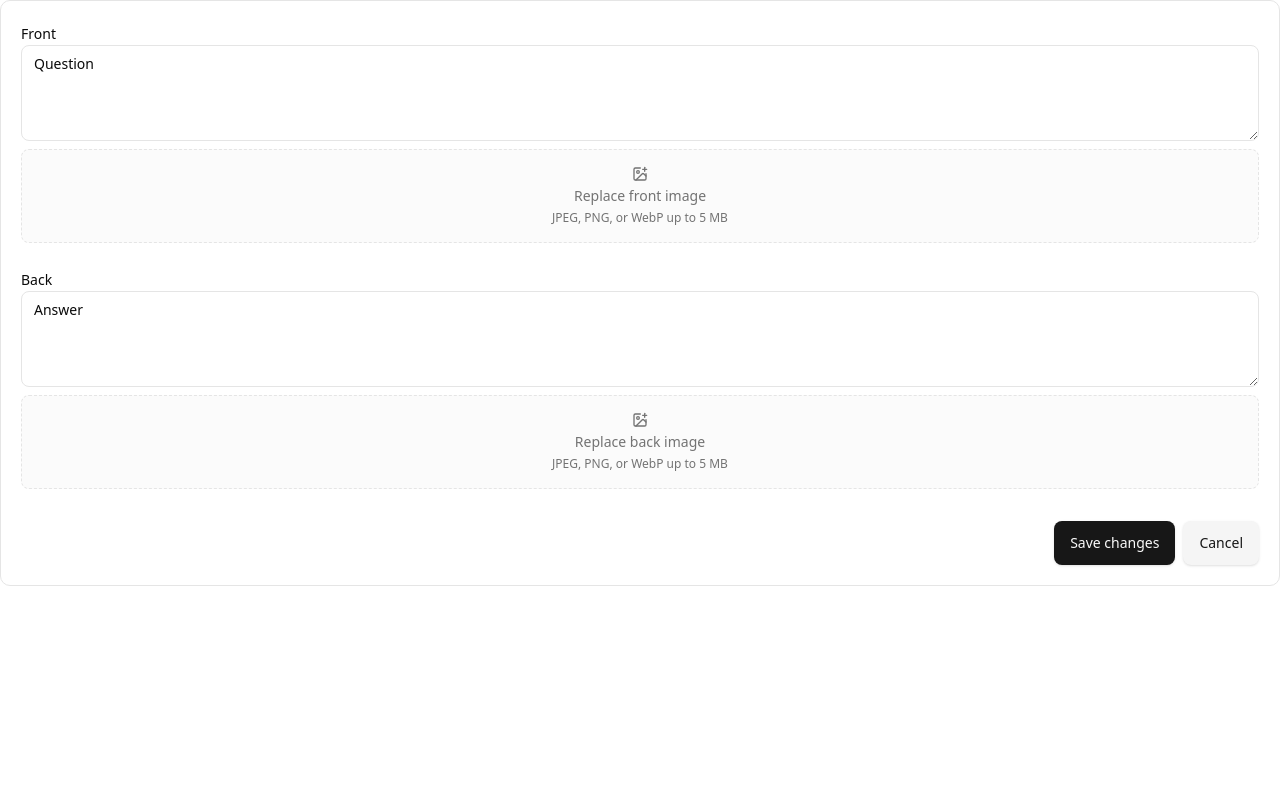
Test: CardForm › shows an inline error when an edit save fails
Click the button "Save changes". click: (1115, 543)
box: [1054, 521, 1175, 565]
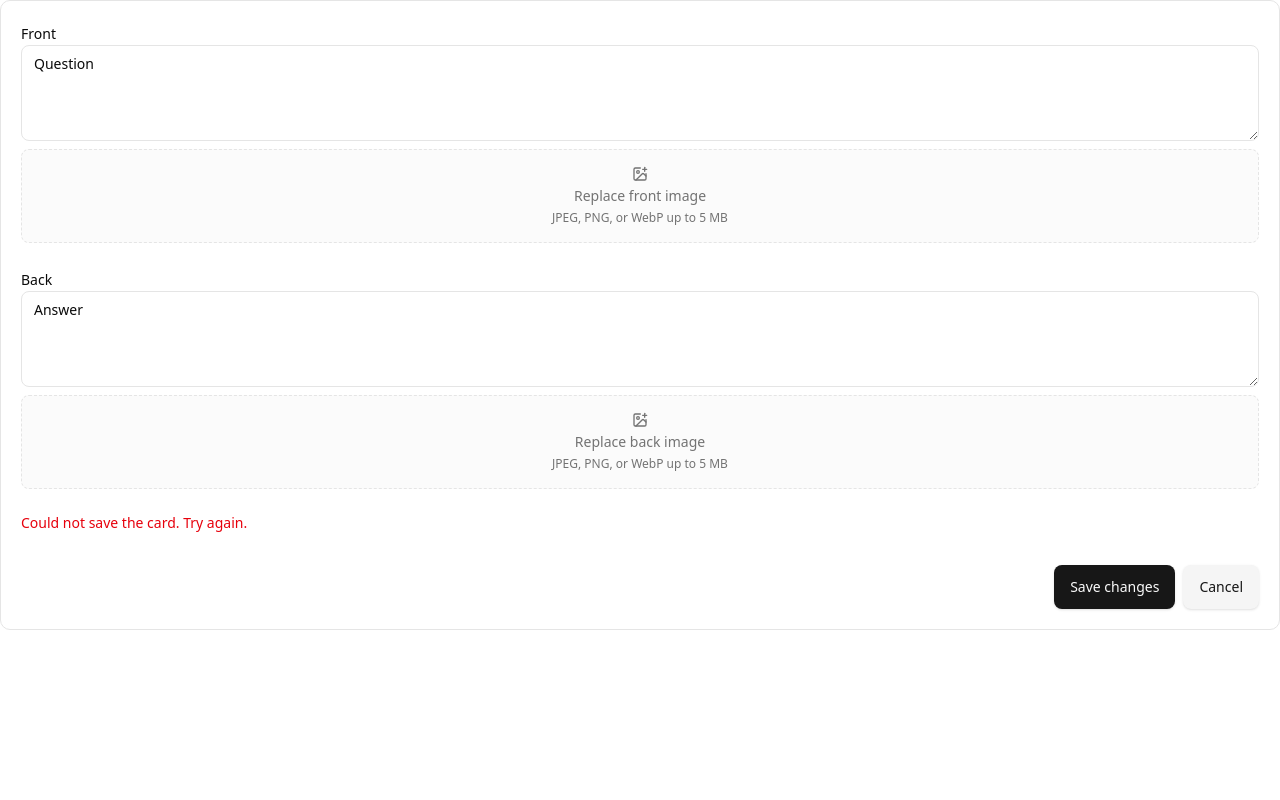
Expected: the message reads "Could not save the card. Try again.", [21, 513, 247, 532]
